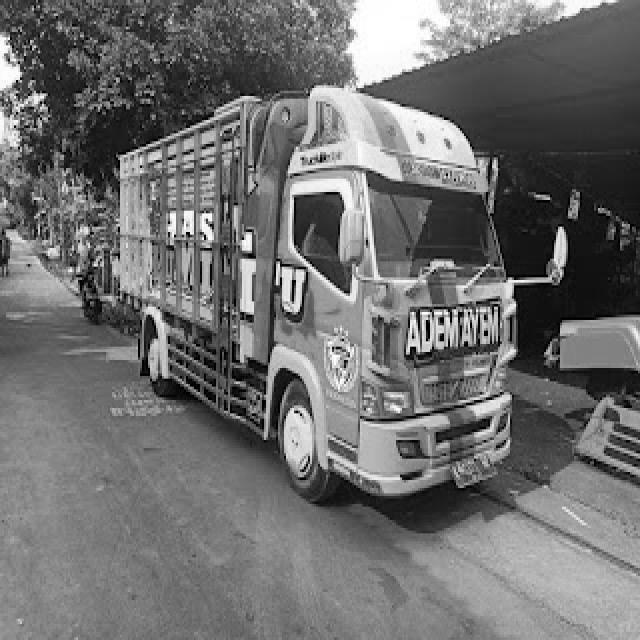truck: (239, 72, 550, 517)
